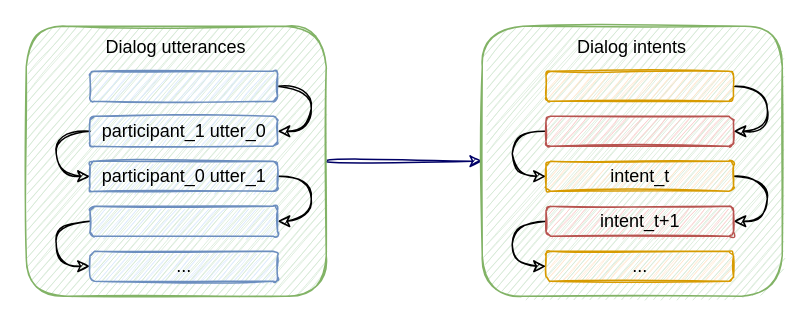
Image size: 809x323. Some labels were removed from this diagram. Here are the shapes that lost their labels. From the top down, the centre of each, then its label:
(183,85): participant_0 utter_0
(639,85): intent_t-2
(639,130): intent_t-1
(183,220): participant_1 utter_1
